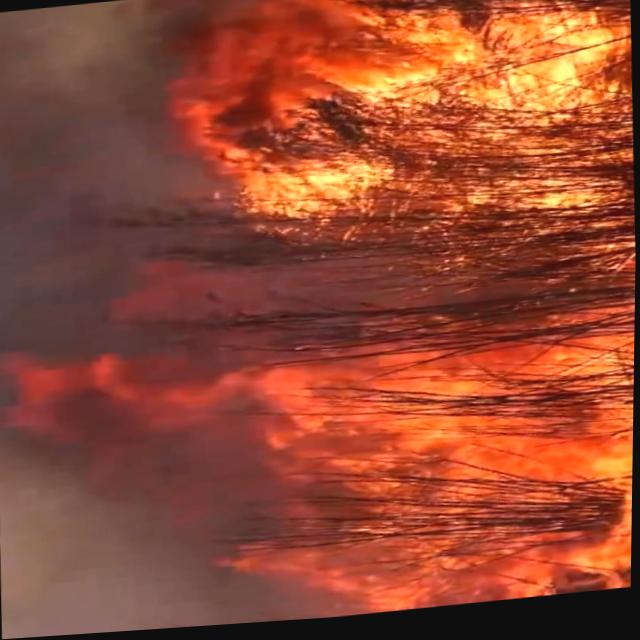fire: (21, 303, 636, 639), (222, 0, 638, 271)
